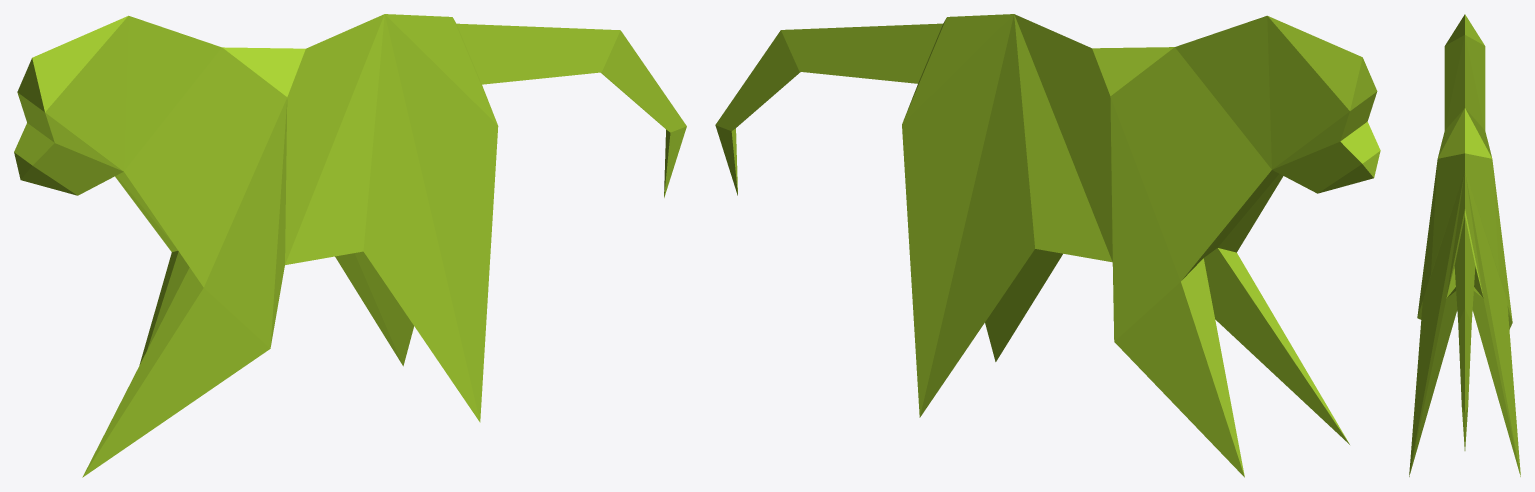
The model's file is Monkey.fbx.
3 renders of one model, left to right at view 1: azimuth 30°, elevation 25°; view 2: azimuth 150°, elevation 25°; view 3: azimuth 270°, elevation 25°, orthographic. The views are drawn at different scales.
Parts seen in each view (by area): view 1: Monkey; view 2: Monkey; view 3: Monkey.
Part boxes in pixels (<box>): Monkey: <box>14,14,686,477</box>; Monkey: <box>715,14,1380,477</box>; Monkey: <box>1409,14,1520,476</box>.
Bounding box in the file's own units: 219 × 143 × 43.84.
